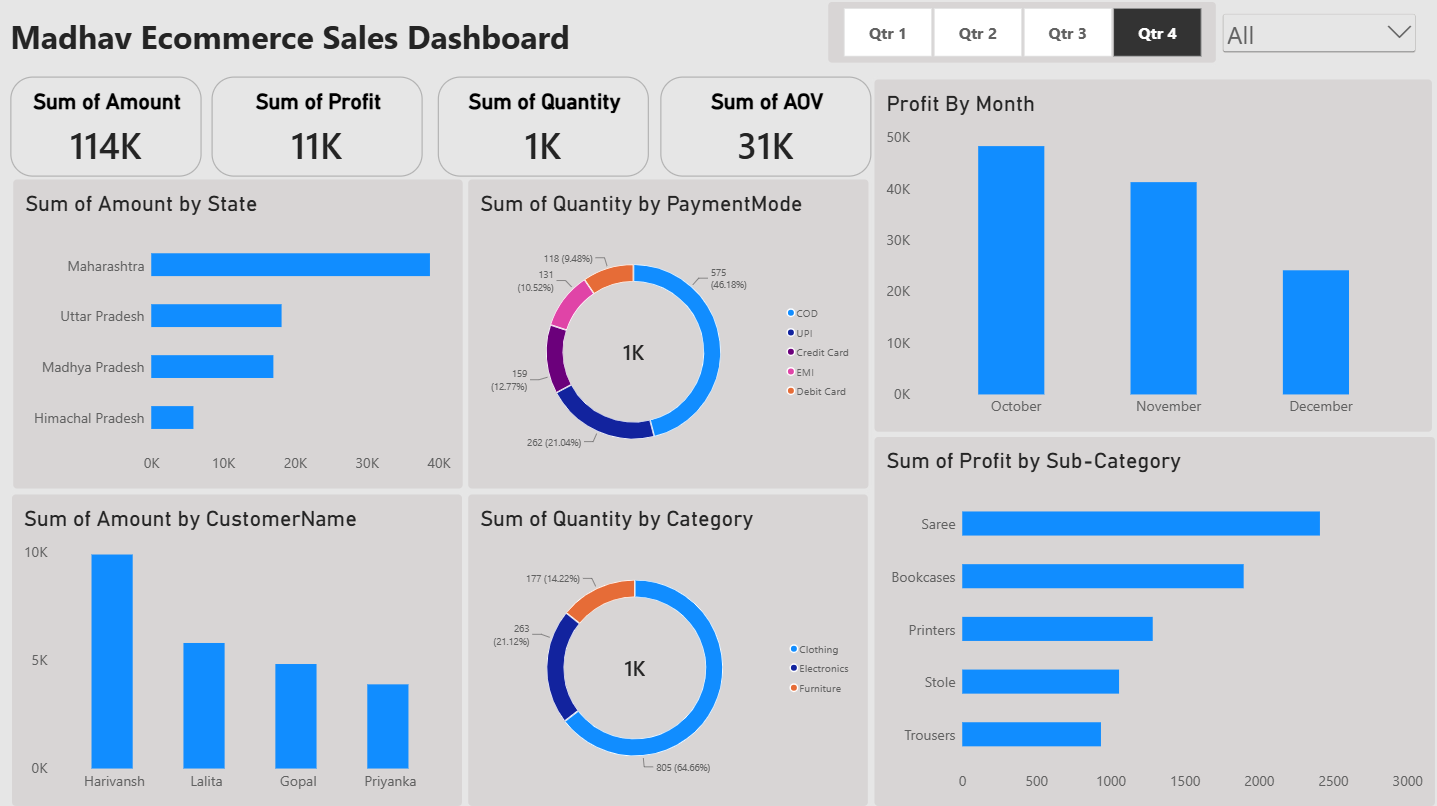

The page's visual inventory and layout, read from the dashboard file:
{"tool":"powerbi","page":{"name":"Page 1","canvas":[1920,1080],"ordinal":0},"visuals":[{"type":"textbox","box":[14.4,20.6,757.5,67.9],"z":0},{"type":"columnChart","title":"Profit By Month","fields":{"Category":["Orders.Order Date.Variation.Date Hierarchy.Month"],"Y":["Sum(Details.Amount)"]},"box":[1163,102.9,751.3,477.5],"z":1},{"type":"barChart","fields":{"Category":["Details.Sub-Category"],"Y":["Sum(Details.Profit)"]},"box":[1163,580.4,755.4,500.2],"z":2},{"type":"donutChart","fields":{"Category":["Details.Category"],"Y":["Sum(Details.Quantity)"]},"box":[622.1,657.4,541.1,423],"z":3},{"type":"donutChart","fields":{"Category":["Details.PaymentMode"],"Y":["Sum(Details.Quantity)"]},"box":[621.6,236.7,541.3,419.9],"z":4},{"type":"barChart","fields":{"Category":["Orders.State"],"Y":["Sum(Details.Amount)"]},"box":[14.4,236.7,607.2,419.9],"z":5},{"type":"columnChart","fields":{"Category":["Orders.CustomerName"],"Y":["Sum(Details.Amount)"]},"box":[14.1,657.4,608,423],"z":6},{"type":"cardVisual","title":"Sum of Amount","fields":{"Data":["Sum(Details.Amount)"]},"box":[14.4,102.9,255.2,133.8],"z":7},{"type":"cardVisual","title":"Sum of Profit","fields":{"Data":["Sum(Details.Profit)"]},"box":[284,102.9,282,133.8],"z":8},{"type":"cardVisual","title":"Sum of Quantity","fields":{"Data":["Sum(Details.Quantity)"]},"box":[584.6,102.9,282,133.8],"z":9},{"type":"cardVisual","title":"Sum of AOV","fields":{"Data":["Sum(Details.AOV)"]},"box":[881,102.9,282,133.8],"z":10},{"type":"slicer","fields":{"Values":["Orders.Order Date.Variation.Date Hierarchy.Quarter"]},"box":[1101.2,0,524.9,88.5],"z":11},{"type":"slicer","fields":{"Values":["Orders.State"]},"box":[1626.1,14.4,267.6,61.7],"z":12}]}

Visuals, with their boxes in screenshot pixels (x1, y1, x2, y2), scaled from the page's 1920x1080 canvas onto the 1437x806 screenshot:
textbox: (11,15,578,66)
"Profit By Month" columnChart: (870,77,1433,433)
barChart - Details.Sub-Category x Sum(Details.Profit): (870,433,1436,805)
donutChart - Details.Category x Sum(Details.Quantity): (466,491,871,805)
donutChart - Details.PaymentMode x Sum(Details.Quantity): (465,177,870,490)
barChart - Orders.State x Sum(Details.Amount): (11,177,465,490)
columnChart - Orders.CustomerName x Sum(Details.Amount): (11,491,466,805)
"Sum of Amount" cardVisual: (11,77,202,177)
"Sum of Profit" cardVisual: (213,77,424,177)
"Sum of Quantity" cardVisual: (438,77,649,177)
"Sum of AOV" cardVisual: (659,77,870,177)
slicer - Orders.Order Date.Variation.Date Hierarchy.Quarter: (824,0,1217,66)
slicer - Orders.State: (1217,11,1417,57)
